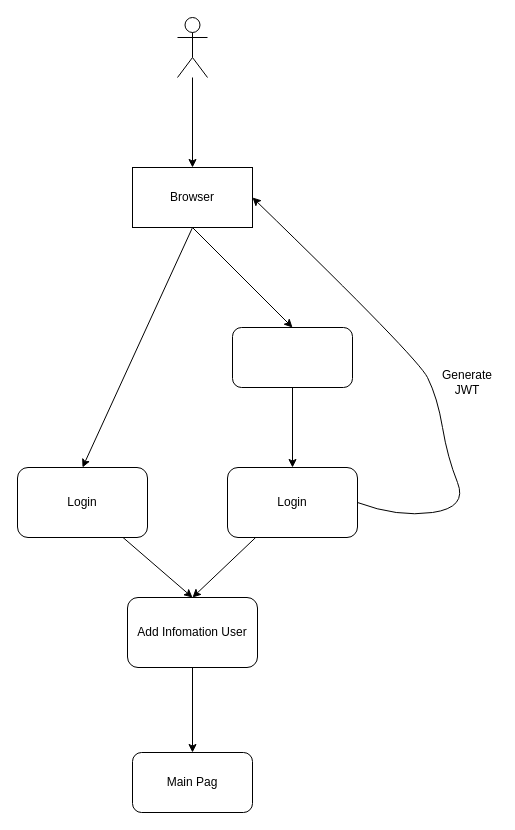
Some shapes in this 515 by 830 pixel diagram are drawn without their labels. Each missing label, with the centre of its shape:
"Register" belongs at pixel 292 357.
"User" belongs at pixel 192 47.
